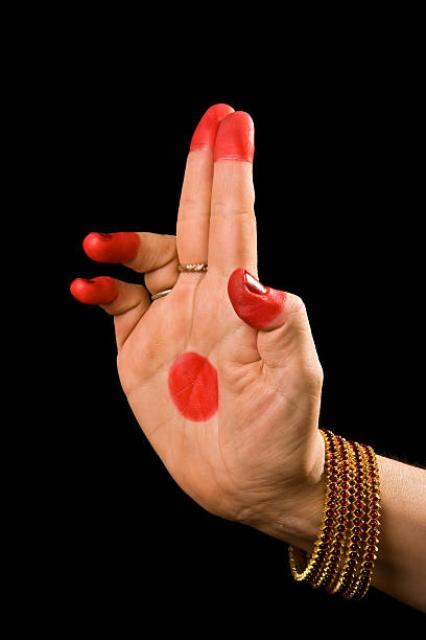ardhpataka: (26, 72, 418, 580)
